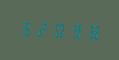eight: (82, 21, 97, 41)
nine: (66, 20, 81, 41)
three: (18, 17, 33, 38)
two: (34, 18, 49, 39)
zero: (50, 19, 65, 40)
